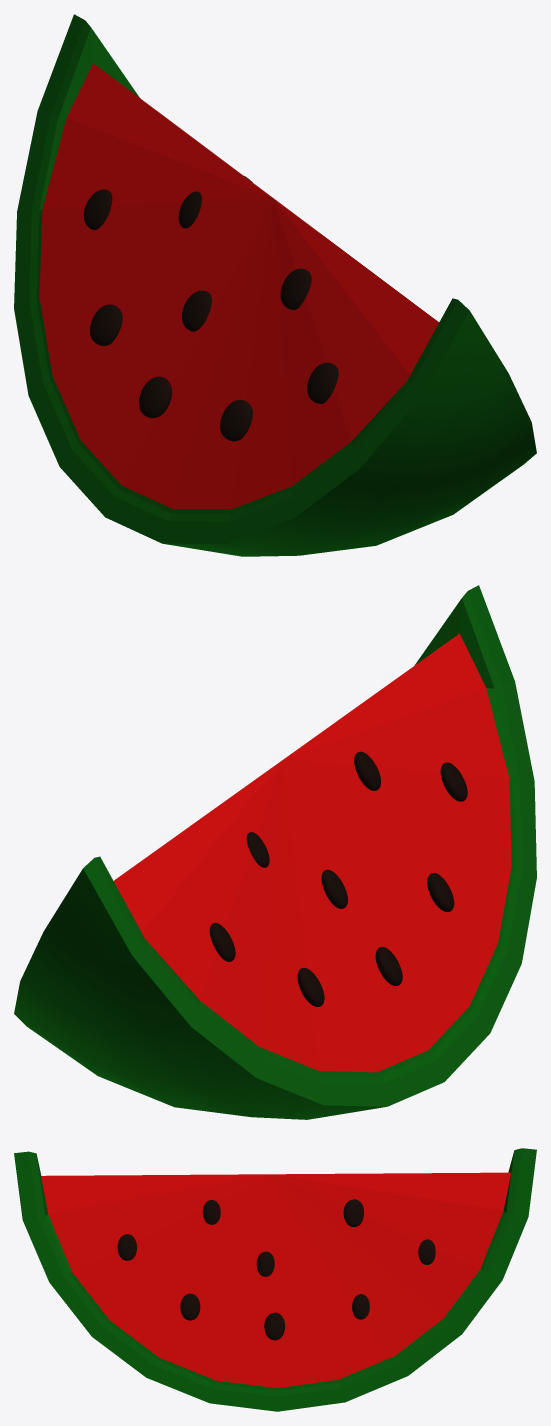
Rendered from Sandia.fbx.
3 views of the same model, one above another, from view 1: azimuth 30°, elevation 25°; view 2: azimuth 150°, elevation 25°; view 3: azimuth 270°, elevation 25° (orthographic). The views are drawn at different scales.
Parts seen in each view (by area): view 1: Sphere001, Sphere018, Sphere024, Sphere025, Sphere023, Sphere019, Sphere022, Sphere020; view 2: Sphere001, Sphere023, Sphere025, Sphere024, Sphere018, Sphere019, Sphere022, Sphere020; view 3: Sphere001, Sphere010, Sphere011, Sphere017, Sphere012, Sphere014, Sphere016, Sphere015, Sphere013.
Boxes of the visible parts, x1,y1,x2,y2 form: Sphere001: [14, 14, 536, 556]; Sphere018: [138, 376, 171, 418]; Sphere024: [220, 399, 252, 441]; Sphere025: [90, 304, 122, 345]; Sphere023: [307, 362, 338, 403]; Sphere019: [280, 268, 311, 310]; Sphere022: [182, 290, 211, 331]; Sphere020: [83, 189, 112, 229]; Sphere001: [14, 585, 536, 1119]; Sphere023: [440, 762, 467, 801]; Sphere025: [297, 968, 324, 1006]; Sphere024: [427, 873, 454, 911]; Sphere018: [375, 947, 402, 985]; Sphere019: [354, 751, 380, 790]; Sphere022: [321, 869, 347, 908]; Sphere020: [209, 923, 235, 961]; Sphere001: [14, 1148, 536, 1411]; Sphere010: [264, 1312, 285, 1340]; Sphere011: [343, 1199, 363, 1227]; Sphere017: [180, 1293, 200, 1320]; Sphere012: [117, 1234, 136, 1260]; Sphere014: [256, 1251, 274, 1276]; Sphere016: [352, 1294, 369, 1319]; Sphere015: [418, 1239, 435, 1264]; Sphere013: [202, 1200, 220, 1224].
Bounding box in the file's own units: 17.4 × 17.64 × 34.75.
